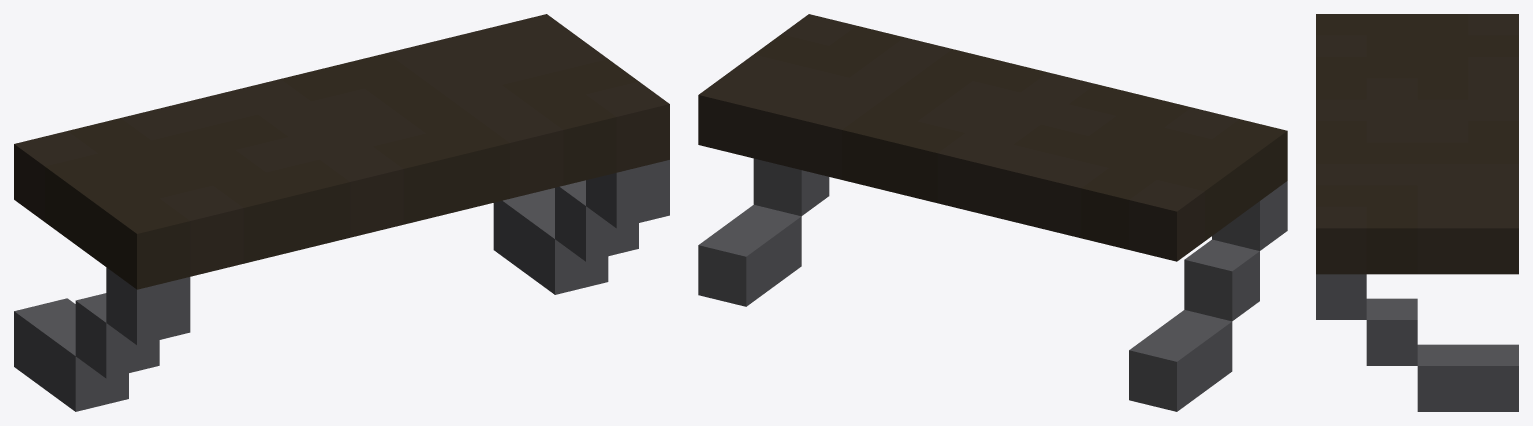
The model's file is tavern-32-shelf_empty.obj.
3 renders of one model, left to right at view 1: azimuth 30°, elevation 25°; view 2: azimuth 150°, elevation 25°; view 3: azimuth 270°, elevation 25°, orthographic. The views are drawn at different scales.
Parts seen in each view (by area): view 1: shelf_empty; view 2: shelf_empty; view 3: shelf_empty.
Boxes of the visible parts, left/top/right/bottom form: shelf_empty: left=14, top=14, right=669, bottom=411; shelf_empty: left=698, top=14, right=1287, bottom=411; shelf_empty: left=1316, top=14, right=1518, bottom=411.
Size of the model in its own units: 1 by 0.4 by 0.4.
Materials: 1 (1 with a texture image).
